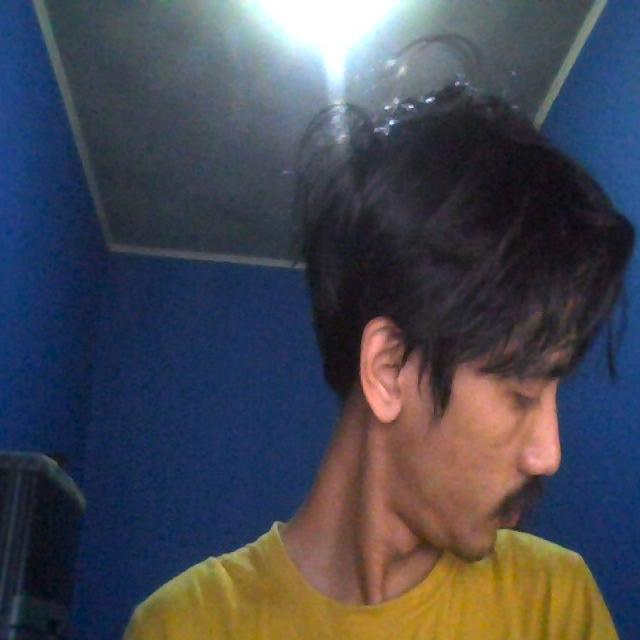melihat kekiri: (294, 89, 608, 564)
